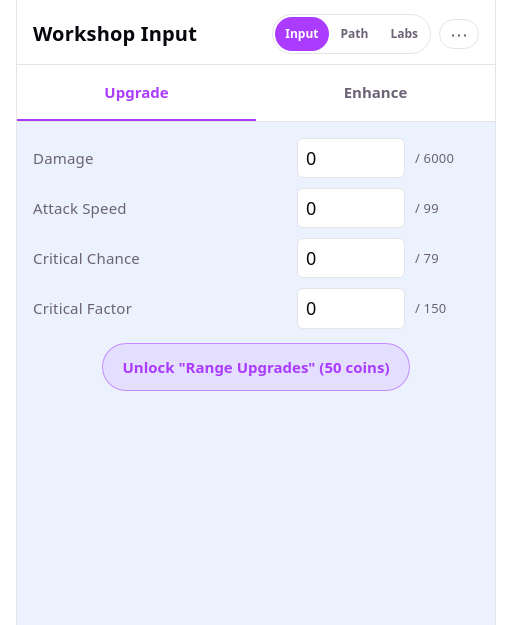
Test: App › keeps the Labs section on the same top-level control as Path, not inside the Upgrade/Enhance toggle (OQ-4)
Click the tab "Labs".
click(404, 34)  # box [380, 17, 428, 51]
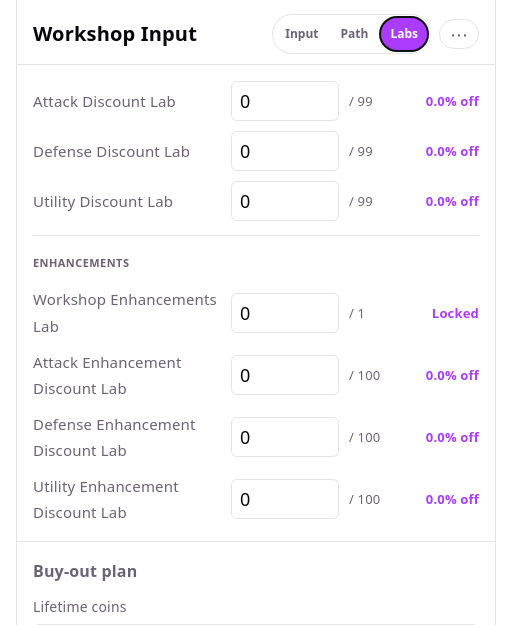
Check: the number field labelled "Attack Discount Lab" is shown, box [231, 81, 339, 121]
Check: the tab "Upgrade" is gone
